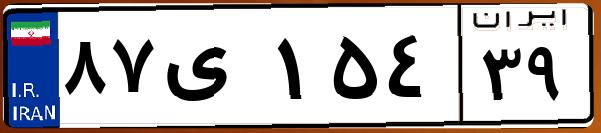1: (270, 28, 330, 110)
3: (475, 38, 525, 113)
4: (385, 28, 445, 110)
5: (330, 28, 385, 110)
7: (110, 28, 158, 98)
8: (57, 26, 110, 100)
9: (525, 38, 570, 115)
ی: (158, 20, 270, 120)
